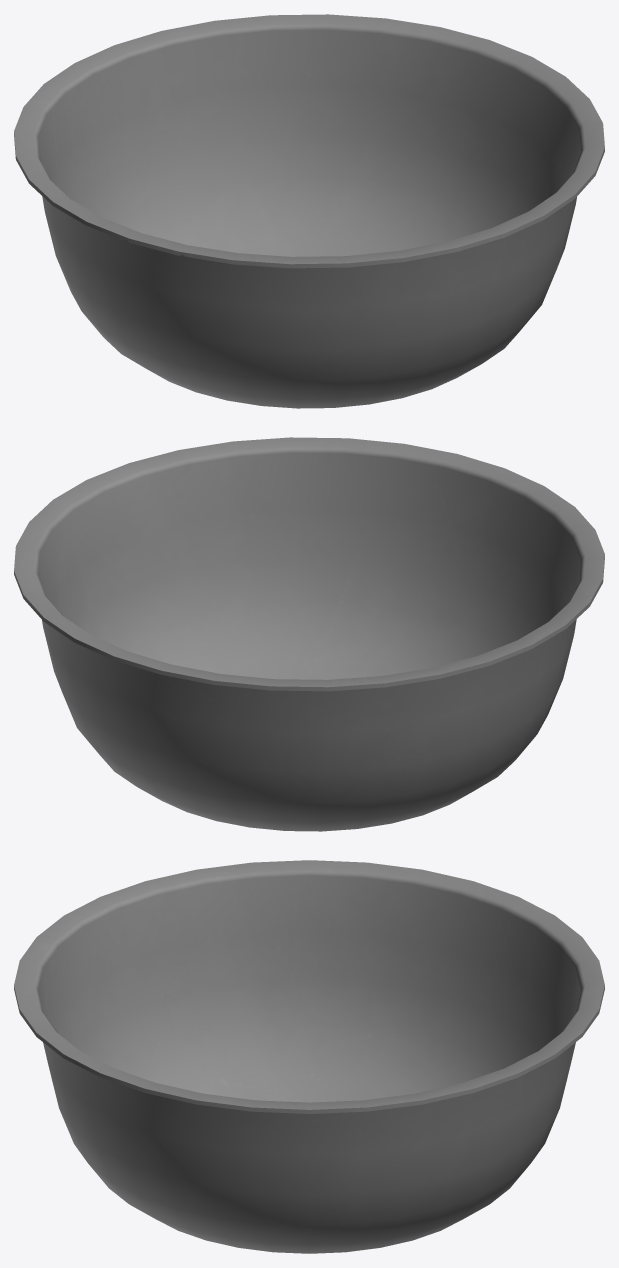
The model's file is Bowl_01 1.FBX.
The picture shows the model from 3 angles, top to bottom: view 1: azimuth 30°, elevation 25°; view 2: azimuth 150°, elevation 25°; view 3: azimuth 270°, elevation 25°; orthographic projection.
Parts seen in each view (by area): view 1: Bowl_01; view 2: Bowl_01; view 3: Bowl_01.
Boxes of the visible parts, bbox=[...] form: Bowl_01: bbox=[14, 14, 604, 408]; Bowl_01: bbox=[14, 437, 604, 831]; Bowl_01: bbox=[14, 860, 604, 1253].
Bounding box in the file's own units: 25.83 × 10.2 × 25.83.
1 material, 1 textured.
